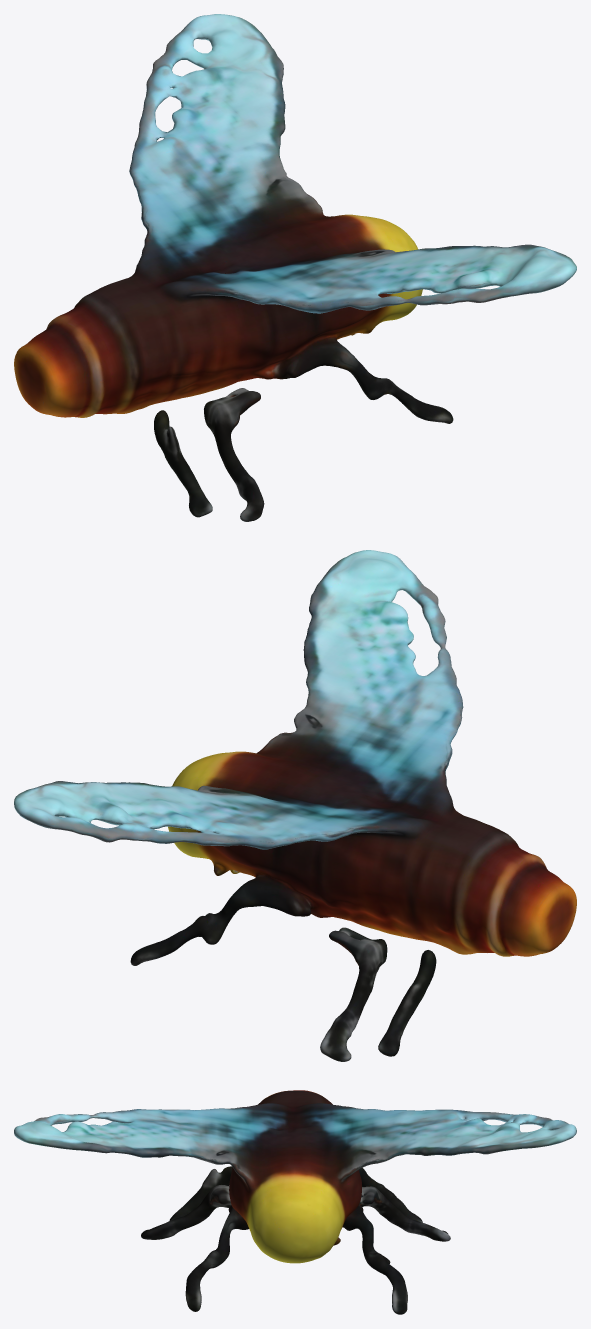
The model's file is 8746c07b2b96_firefly__3d_asset_0_glb.glb.
3 renders of one model, top to bottom at view 1: azimuth 30°, elevation 25°; view 2: azimuth 150°, elevation 25°; view 3: azimuth 270°, elevation 25°, orthographic. The views are drawn at different scales.
Visible parts, largest first — view 1: world; view 2: world; view 3: world.
Part boxes in pixels (<box>): world: <box>14,14,576,521</box>; world: <box>14,550,576,1061</box>; world: <box>14,1090,576,1314</box>.
Bounding box in the file's own units: 0.3324 × 0.2104 × 0.5367.
Materials: 1 (1 with a texture image).
